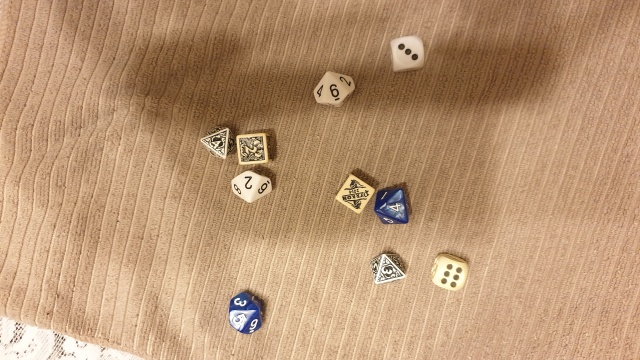d10-2: (228, 171, 274, 204)
d10-4: (372, 182, 414, 231)
d10-5: (227, 286, 267, 337)
d10-6: (309, 68, 361, 113)
d6-3: (384, 32, 430, 74)
d6-6: (426, 250, 470, 294)
d6p-1: (332, 171, 375, 216)
d6p-2: (233, 130, 273, 167)
d8p-3: (368, 251, 409, 290)
d8p-4: (197, 125, 235, 165)
